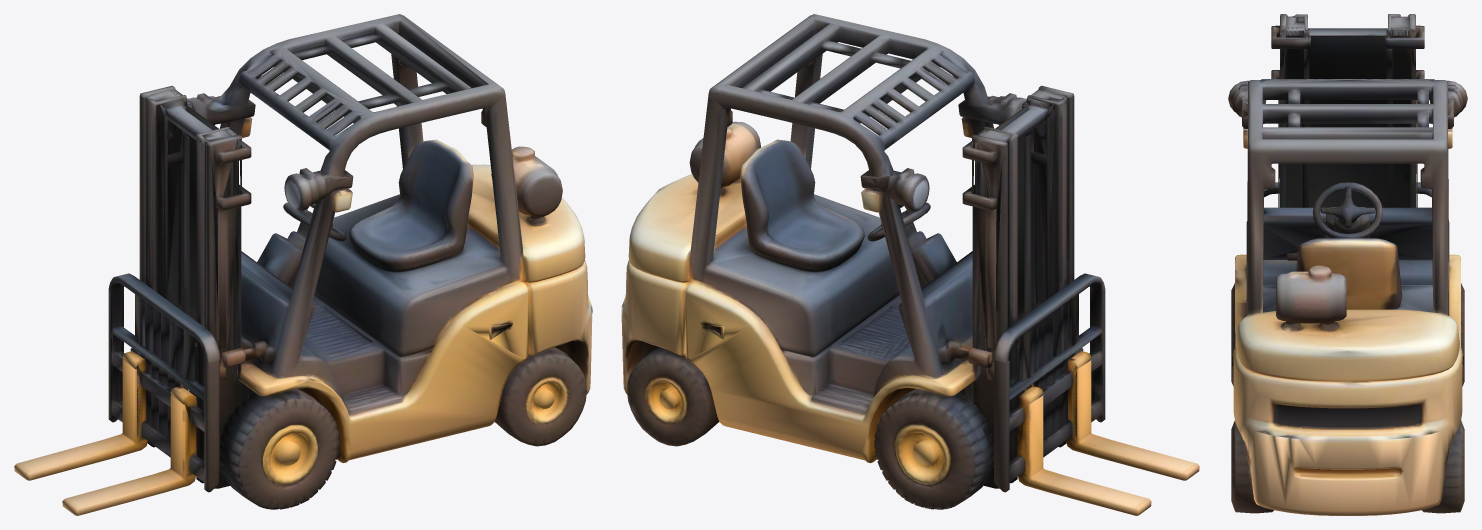
Rendered from forklift_d3af6060_v1.glb.
The picture shows the model from 3 angles, left to right: view 1: azimuth 30°, elevation 25°; view 2: azimuth 150°, elevation 25°; view 3: azimuth 270°, elevation 25°; orthographic projection. The views are drawn at different scales.
Visible parts, largest first — view 1: mesh_input; view 2: mesh_input; view 3: mesh_input.
Part boxes in pixels (x1,y1,x2,y2): mesh_input: [14, 14, 592, 515]; mesh_input: [621, 14, 1199, 515]; mesh_input: [1228, 14, 1467, 515].
Bounding box in the file's own units: 1.9 × 1.27 × 0.7852.
1 material, 1 textured.
